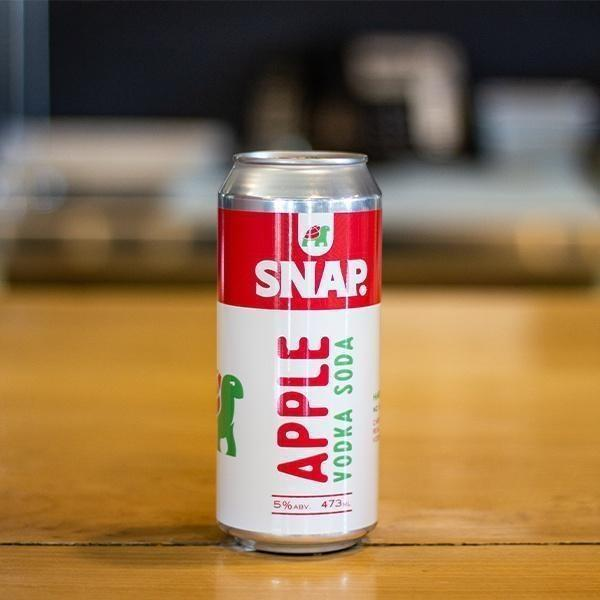tin can: (214, 147, 384, 557)
